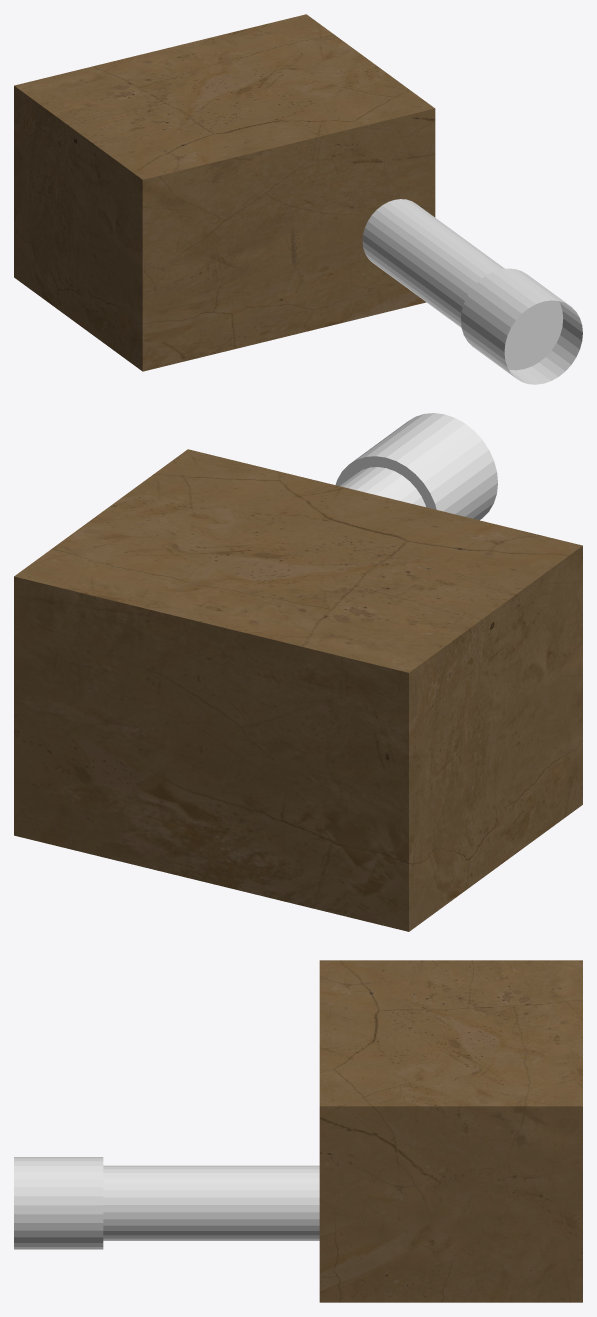
The picture shows the model from 3 angles, top to bottom: view 1: azimuth 30°, elevation 25°; view 2: azimuth 150°, elevation 25°; view 3: azimuth 270°, elevation 25°; orthographic projection. The views are drawn at different scales.
Parts seen in each view (by area): view 1: Cubo.001, Cilindro.001; view 2: Cubo.001, Cilindro.001; view 3: Cubo.001, Cilindro.001.
Boxes of the visible parts, x1,y1,x2,y2 form: Cubo.001: (14, 14, 435, 371); Cilindro.001: (362, 199, 582, 384); Cubo.001: (14, 449, 582, 931); Cilindro.001: (335, 413, 497, 520); Cubo.001: (319, 960, 582, 1302); Cilindro.001: (14, 1157, 319, 1249).
Bounding box in the file's own units: 1.86 × 1.24 × 3.06.
Materials: 4 (1 with a texture image).
